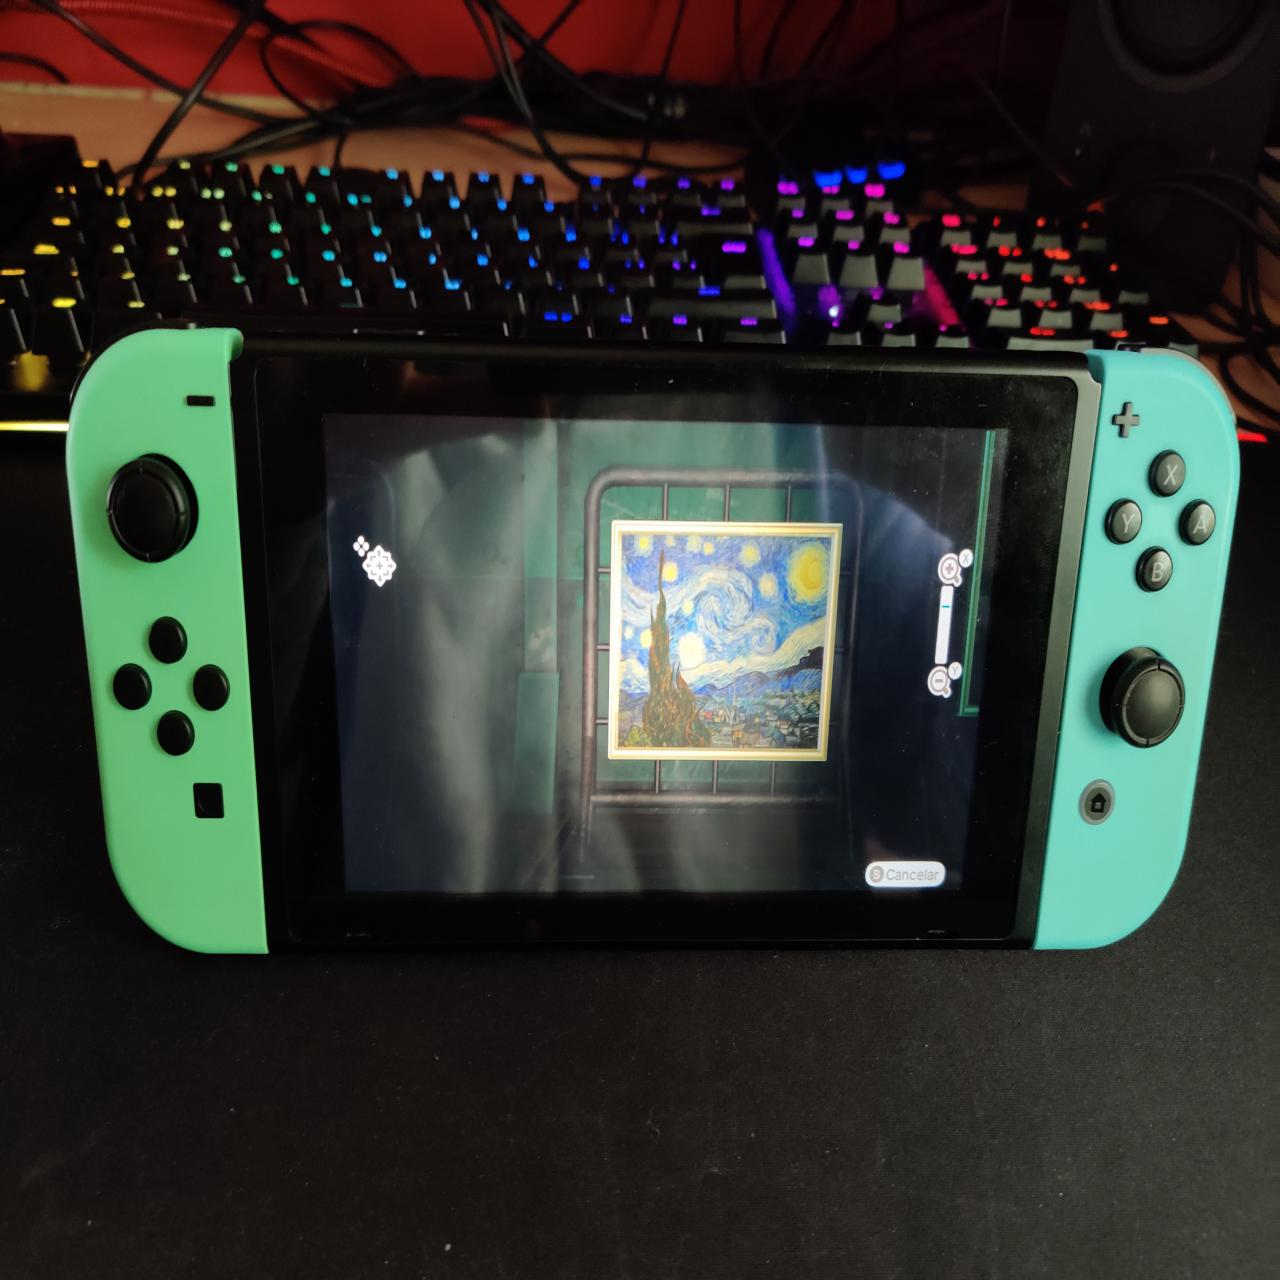StarryNight: (625, 536, 828, 749)
